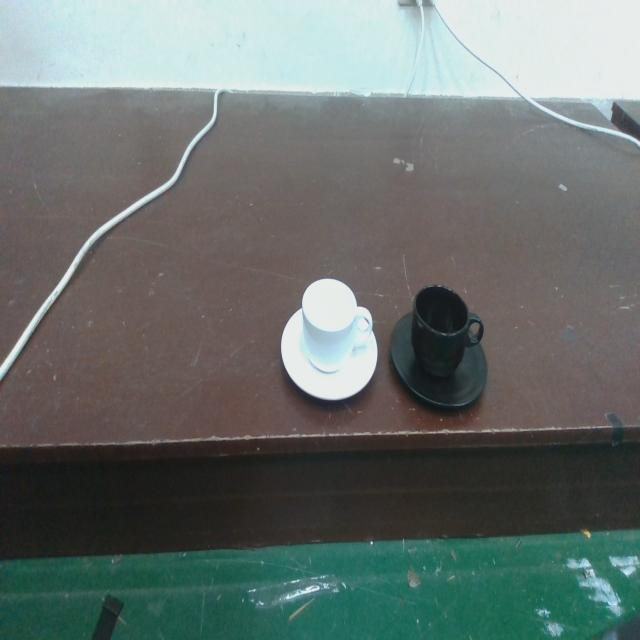black: (385, 280, 490, 416)
white: (279, 275, 380, 405)
